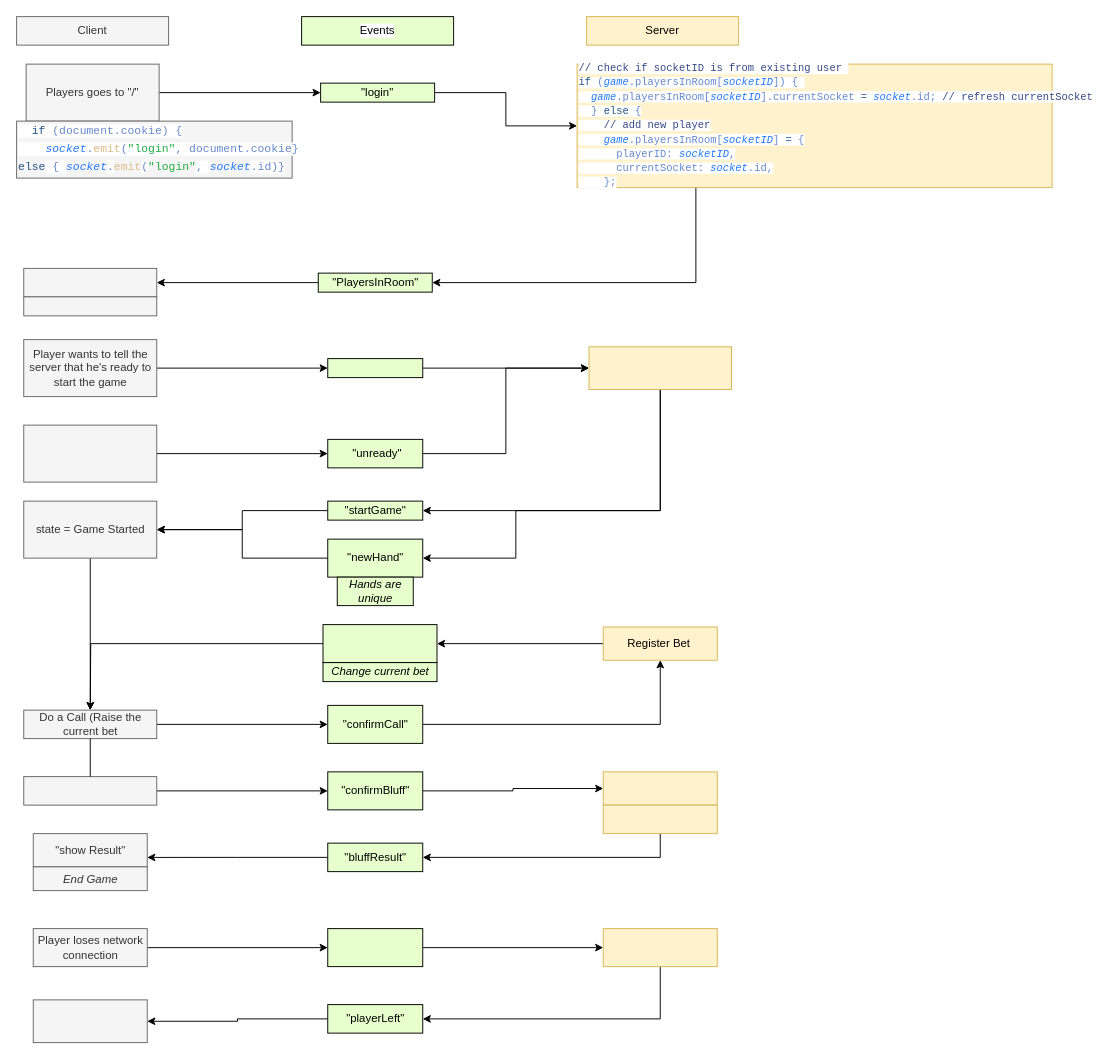
This 1110x1059 diagram has some shape labels left out. Each missing label, with the box of its shape:
"Disconnect": (327, 928, 423, 967)
"playingFieldUpdate": (322, 624, 437, 663)
"ready": (327, 358, 423, 378)
Assess the Bluff: (602, 771, 717, 805)
Compare to total dice heads: (602, 804, 717, 834)
Delete opponent from UI: (32, 999, 147, 1043)
Do a Bluff (Test the current Bet): (23, 776, 157, 805)
If all joined players are ready: (588, 346, 732, 390)
Notify all players: (602, 928, 717, 967)
Player wants to tell the server that he's NOT ready to start the game: (23, 424, 157, 482)
show opponent players: (23, 296, 157, 316)
Update DOM PlayerJoined: (23, 267, 157, 297)
